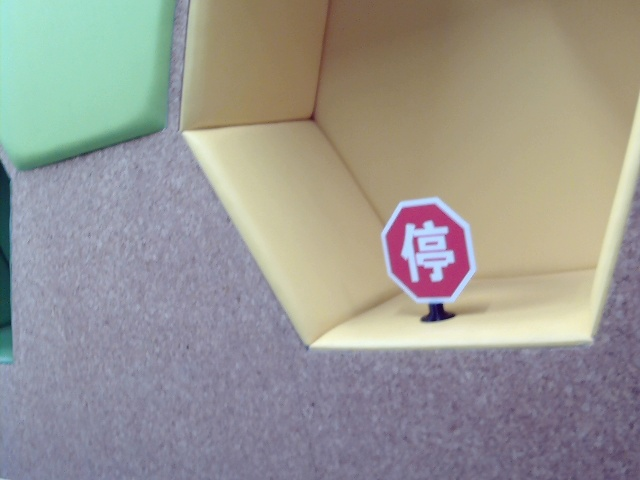stop: (396, 219, 458, 286)
